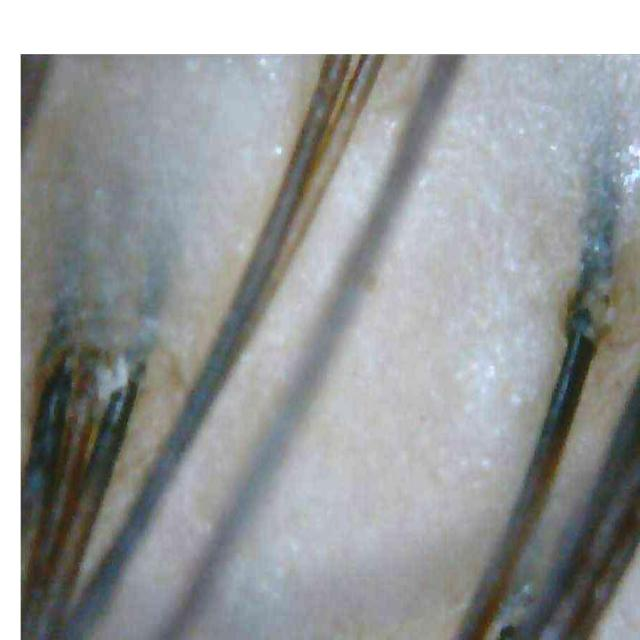d: (95, 354, 130, 405)
o: (549, 51, 639, 266), (453, 336, 542, 437), (185, 51, 290, 131)
